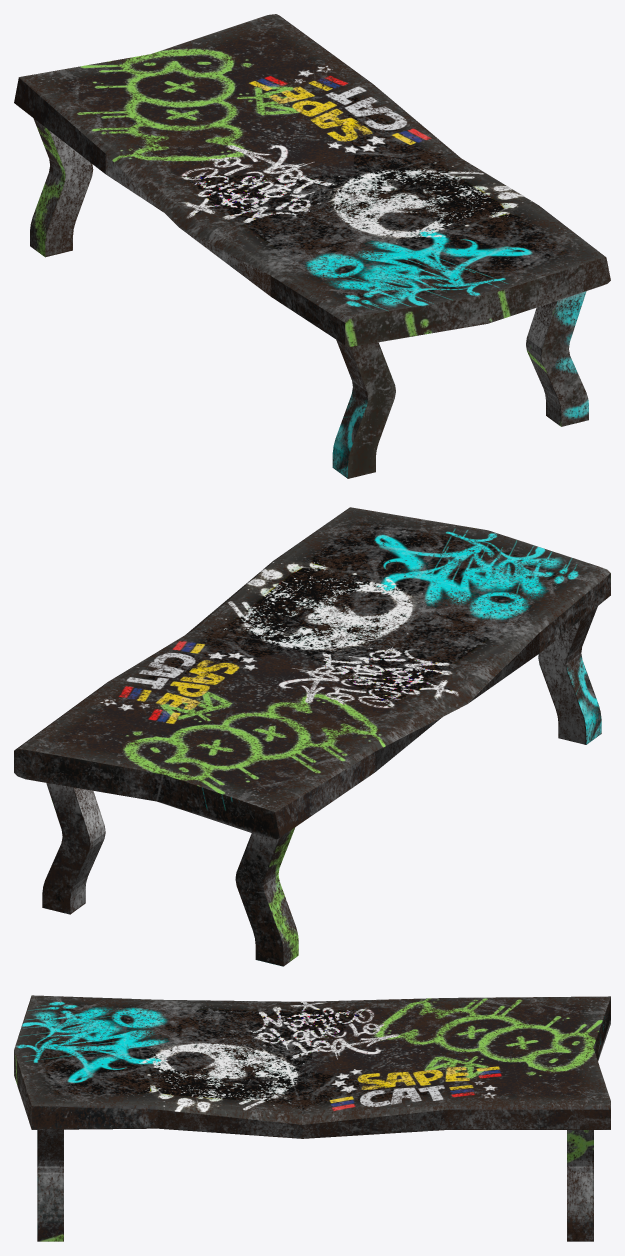
File: Ext_Mesa_Centro.glb
3 renders of one model, top to bottom at view 1: azimuth 30°, elevation 25°; view 2: azimuth 150°, elevation 25°; view 3: azimuth 270°, elevation 25°, orthographic. The views are drawn at different scales.
Visible parts, largest first — view 1: Ext_Mesa_Centro; view 2: Ext_Mesa_Centro; view 3: Ext_Mesa_Centro.
Boxes of the visible parts, <box> form: Ext_Mesa_Centro: <box>14,14,610,478</box>; Ext_Mesa_Centro: <box>14,507,610,966</box>; Ext_Mesa_Centro: <box>14,995,610,1241</box>.
Bounding box in the file's own units: 0.7834 × 0.4333 × 1.64.
Materials: 1 (1 with a texture image).
